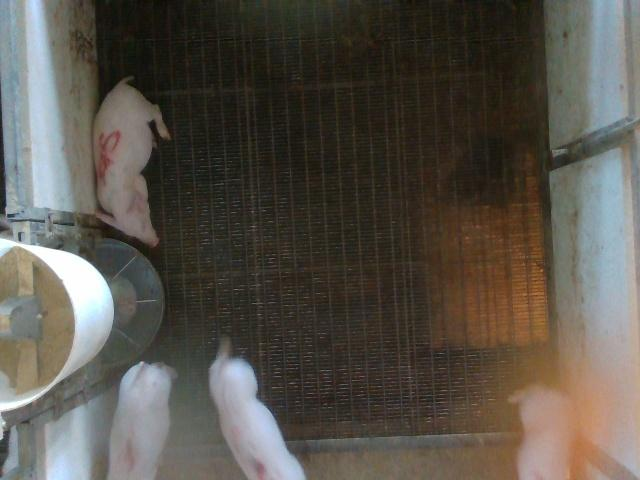pig-1: (109, 361, 174, 478)
pig-3: (209, 338, 305, 479)
pig-5: (92, 76, 170, 247)
